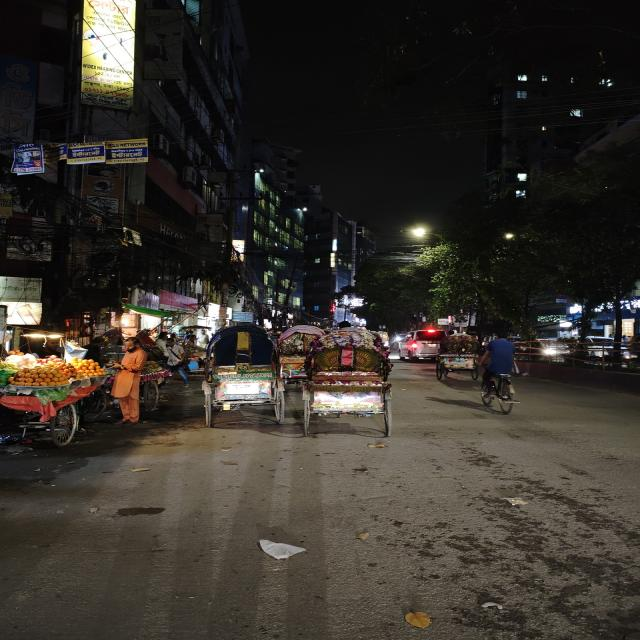bicycle: (478, 341, 521, 417)
car: (402, 328, 445, 362)
pedestrian: (115, 336, 155, 426)
rickshaw: (296, 323, 398, 438), (199, 322, 282, 425), (431, 329, 481, 388)
